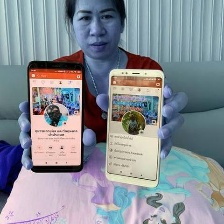phone: (102, 64, 166, 191), (23, 57, 85, 176)
